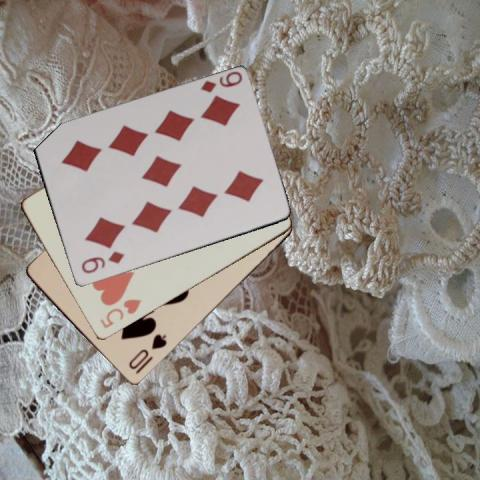10s: (125, 331, 169, 371)
5h: (96, 296, 142, 330)
9d: (78, 248, 125, 275), (197, 68, 243, 95)
